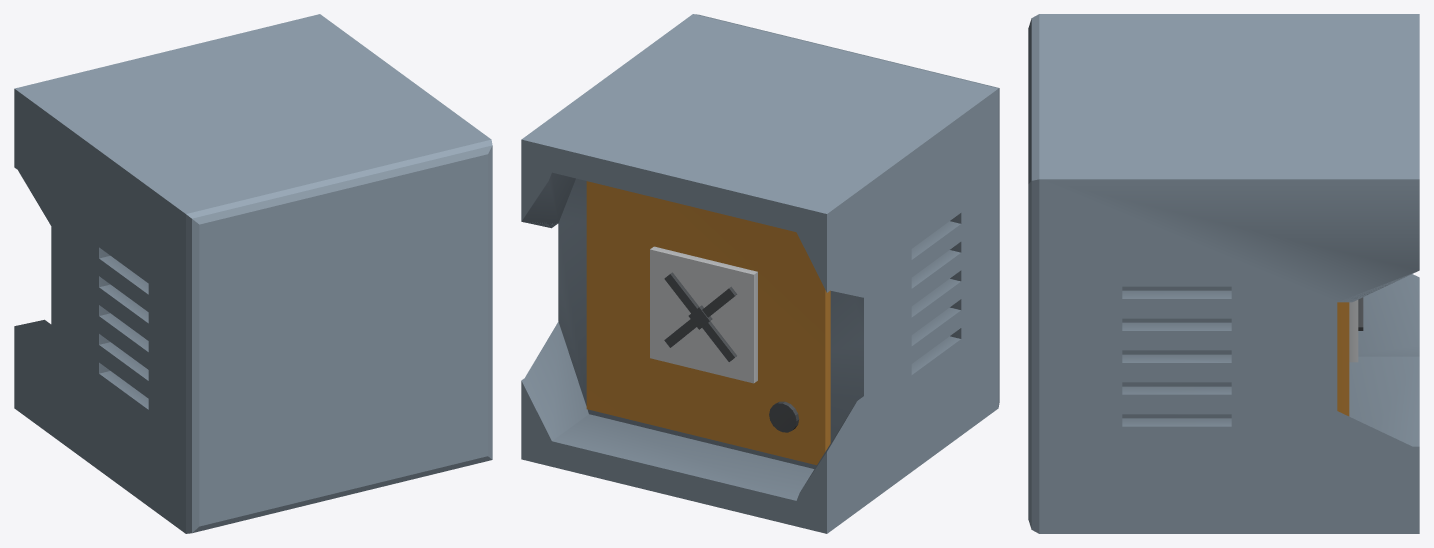
3 renders of one model, left to right at view 1: azimuth 30°, elevation 25°; view 2: azimuth 150°, elevation 25°; view 3: azimuth 270°, elevation 25°, orthographic. The views are drawn at different scales.
Visible parts, largest first — view 1: Part_Body; view 2: Part_Body, Part_Orange, Part_Silver, Part_Dark; view 3: Part_Body, Part_Orange, Part_Silver.
Part boxes in pixels (x1,y1,x2,y2): Part_Body: (14, 14, 492, 533); Part_Body: (521, 14, 999, 533); Part_Orange: (586, 181, 830, 465); Part_Silver: (650, 246, 757, 383); Part_Dark: (664, 272, 799, 432); Part_Body: (1028, 14, 1419, 533); Part_Orange: (1337, 302, 1349, 416); Part_Silver: (1349, 300, 1358, 362).
Bounding box in the file's own units: 1 × 1 × 1.
